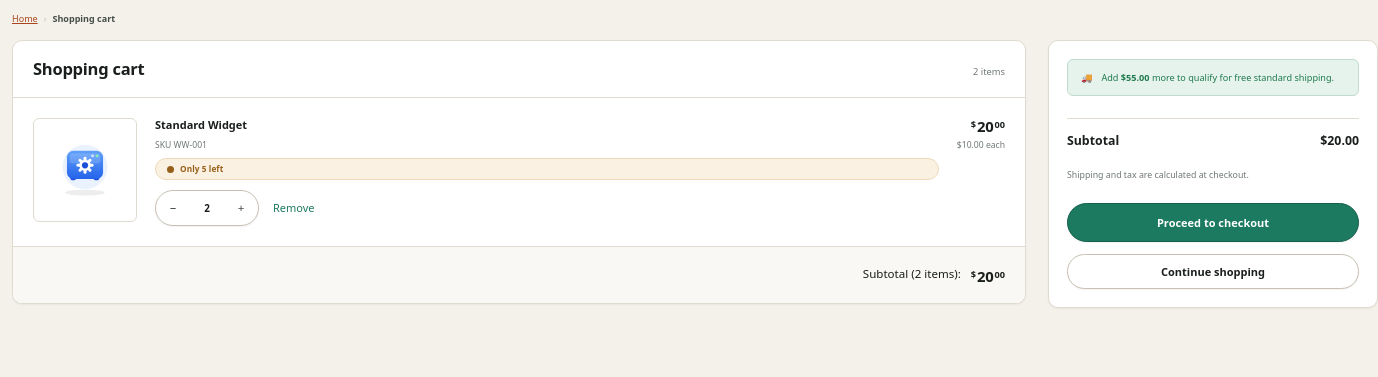
CartPage › falls back to its own message when the failure is not an Error
Step 1. Click the button named "Increase quantity of Standard Widget" → (241, 208), box top-left (224, 191), bottom-right (258, 225)
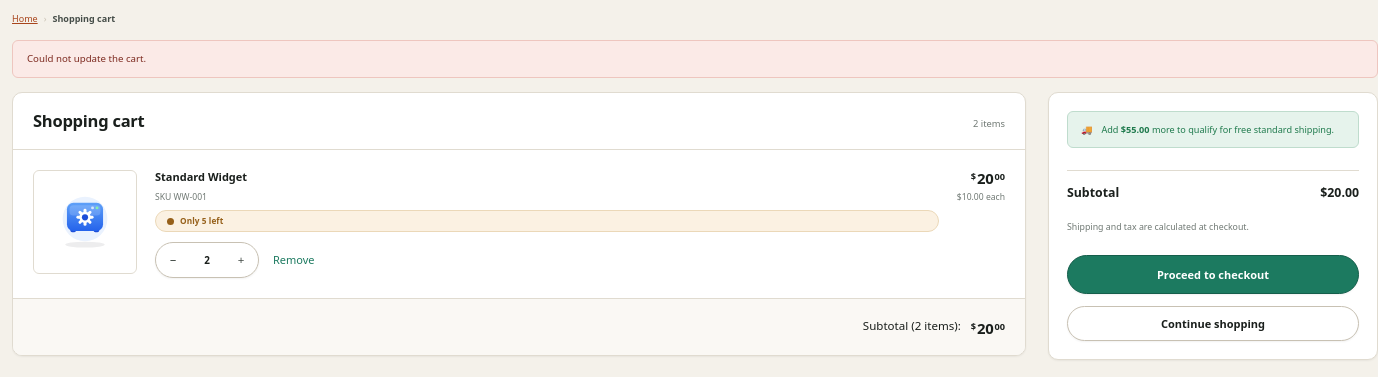
Expected: the text "Could not update the cart." is shown, top-left (12, 40), bottom-right (1377, 78)
